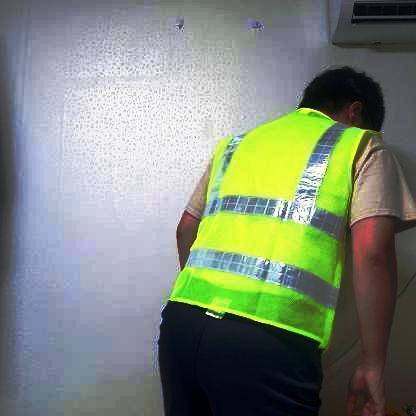no-helmet: (299, 69, 391, 125)
vest: (161, 104, 386, 355)
